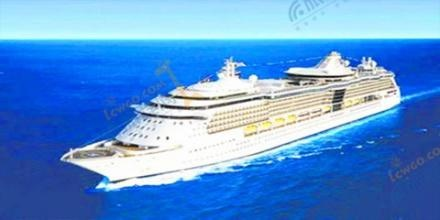youlun: (62, 54, 410, 176)
